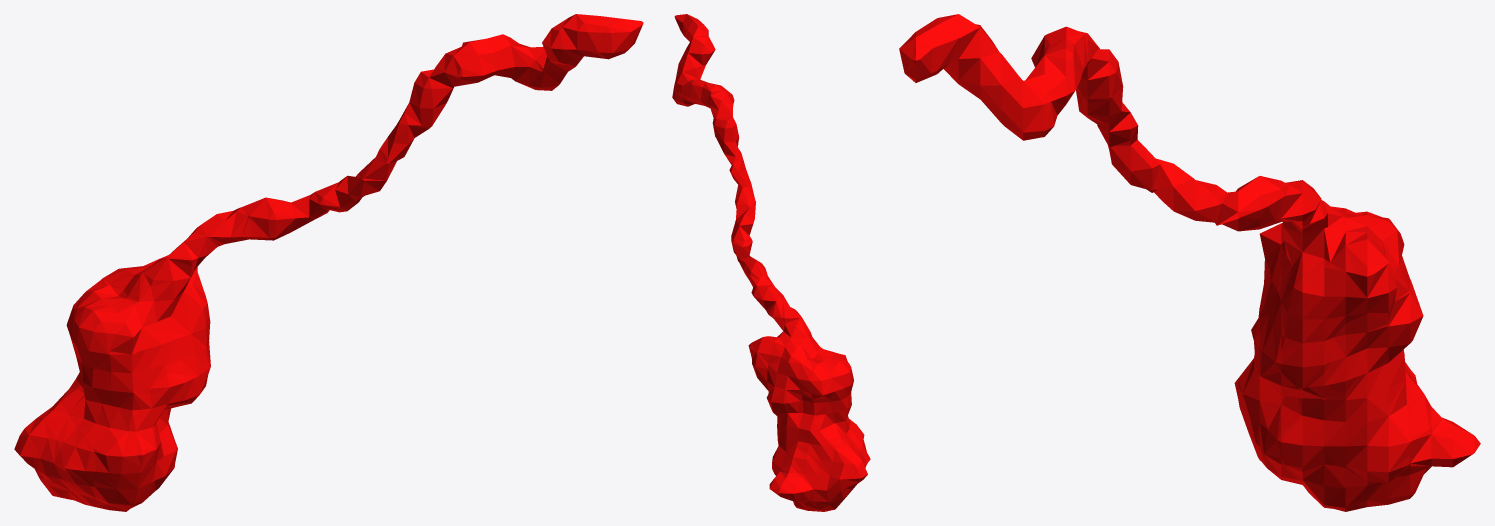
File: yfiF_coarse.dae
3 renders of one model, left to right at view 1: azimuth 30°, elevation 25°; view 2: azimuth 150°, elevation 25°; view 3: azimuth 270°, elevation 25°, orthographic. The views are drawn at different scales.
Parts seen in each view (by area): view 1: yfiF; view 2: yfiF; view 3: yfiF.
Boxes of the visible parts, x1,y1,x2,y2 form: yfiF: (14,14,643,511); yfiF: (672,14,870,511); yfiF: (899,14,1480,511).
Bounding box in the file's own units: 142 × 156 × 117.
